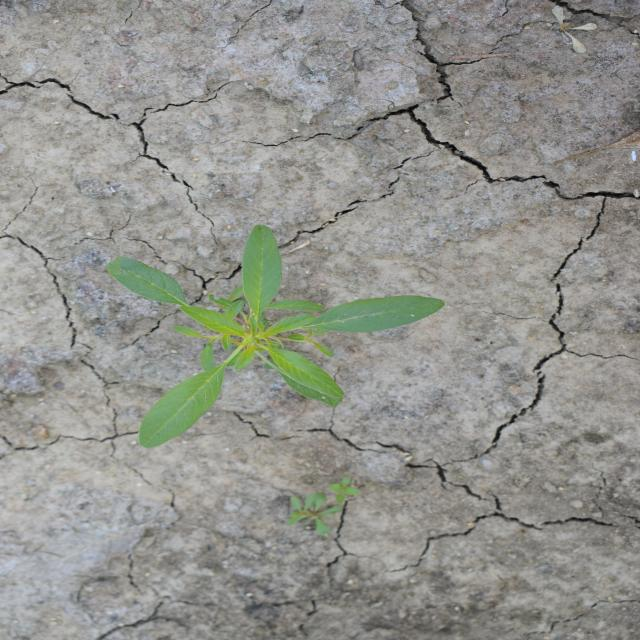Carpetweed: (282, 475, 365, 538)
Waterhemp: (102, 222, 448, 450)
